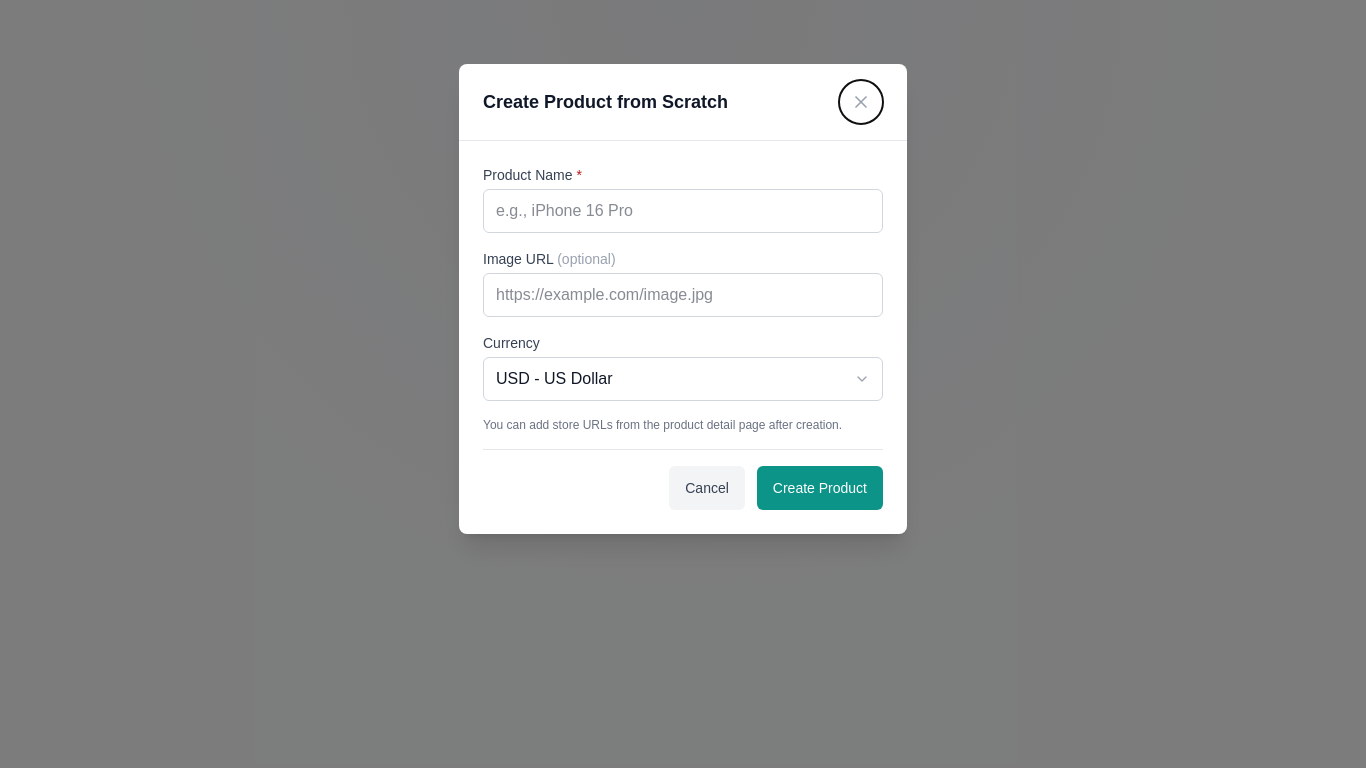
it: CreateProductModal › validation › should show error for invalid image URL
This screenshot has width=1366, height=768.
Type "My Product" into the field with test id "create-product-name" at (683, 211), box 483,189 -> 883,233
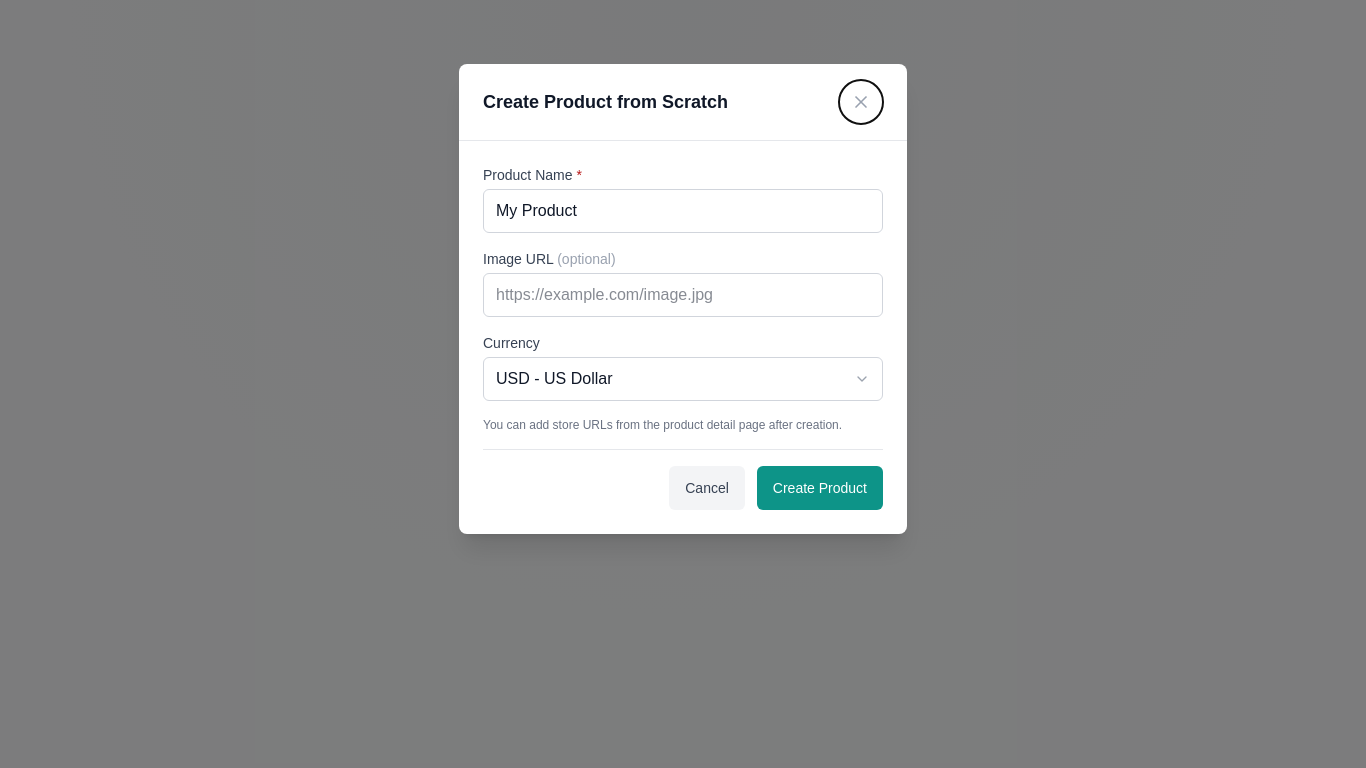
Type "not-a-url" into the field with test id "create-product-image-url" at (683, 295), box 483,273 -> 883,317
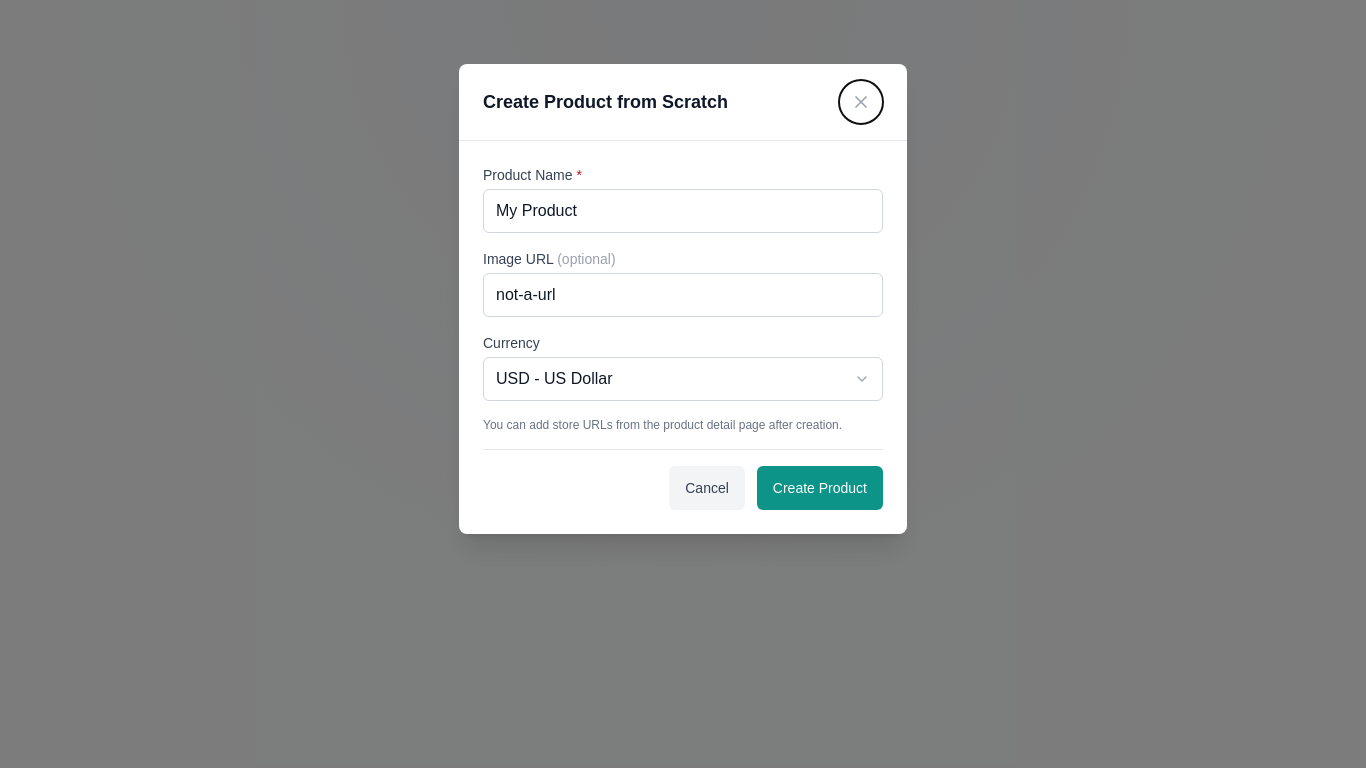
Click the button with test id "create-product-submit" at (820, 488), box 757,466 -> 883,510
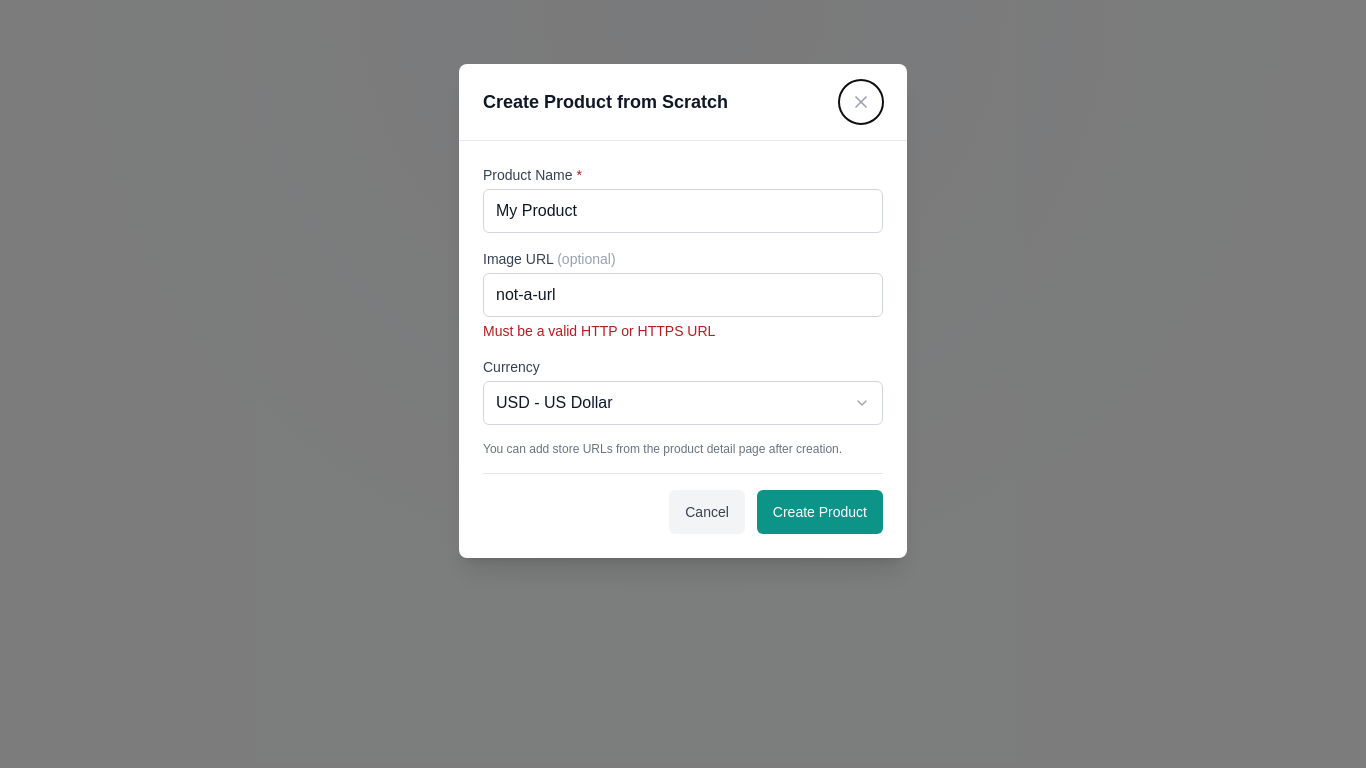
Check: the element with test id "image-url-error" is shown, box 483,323 -> 715,339
